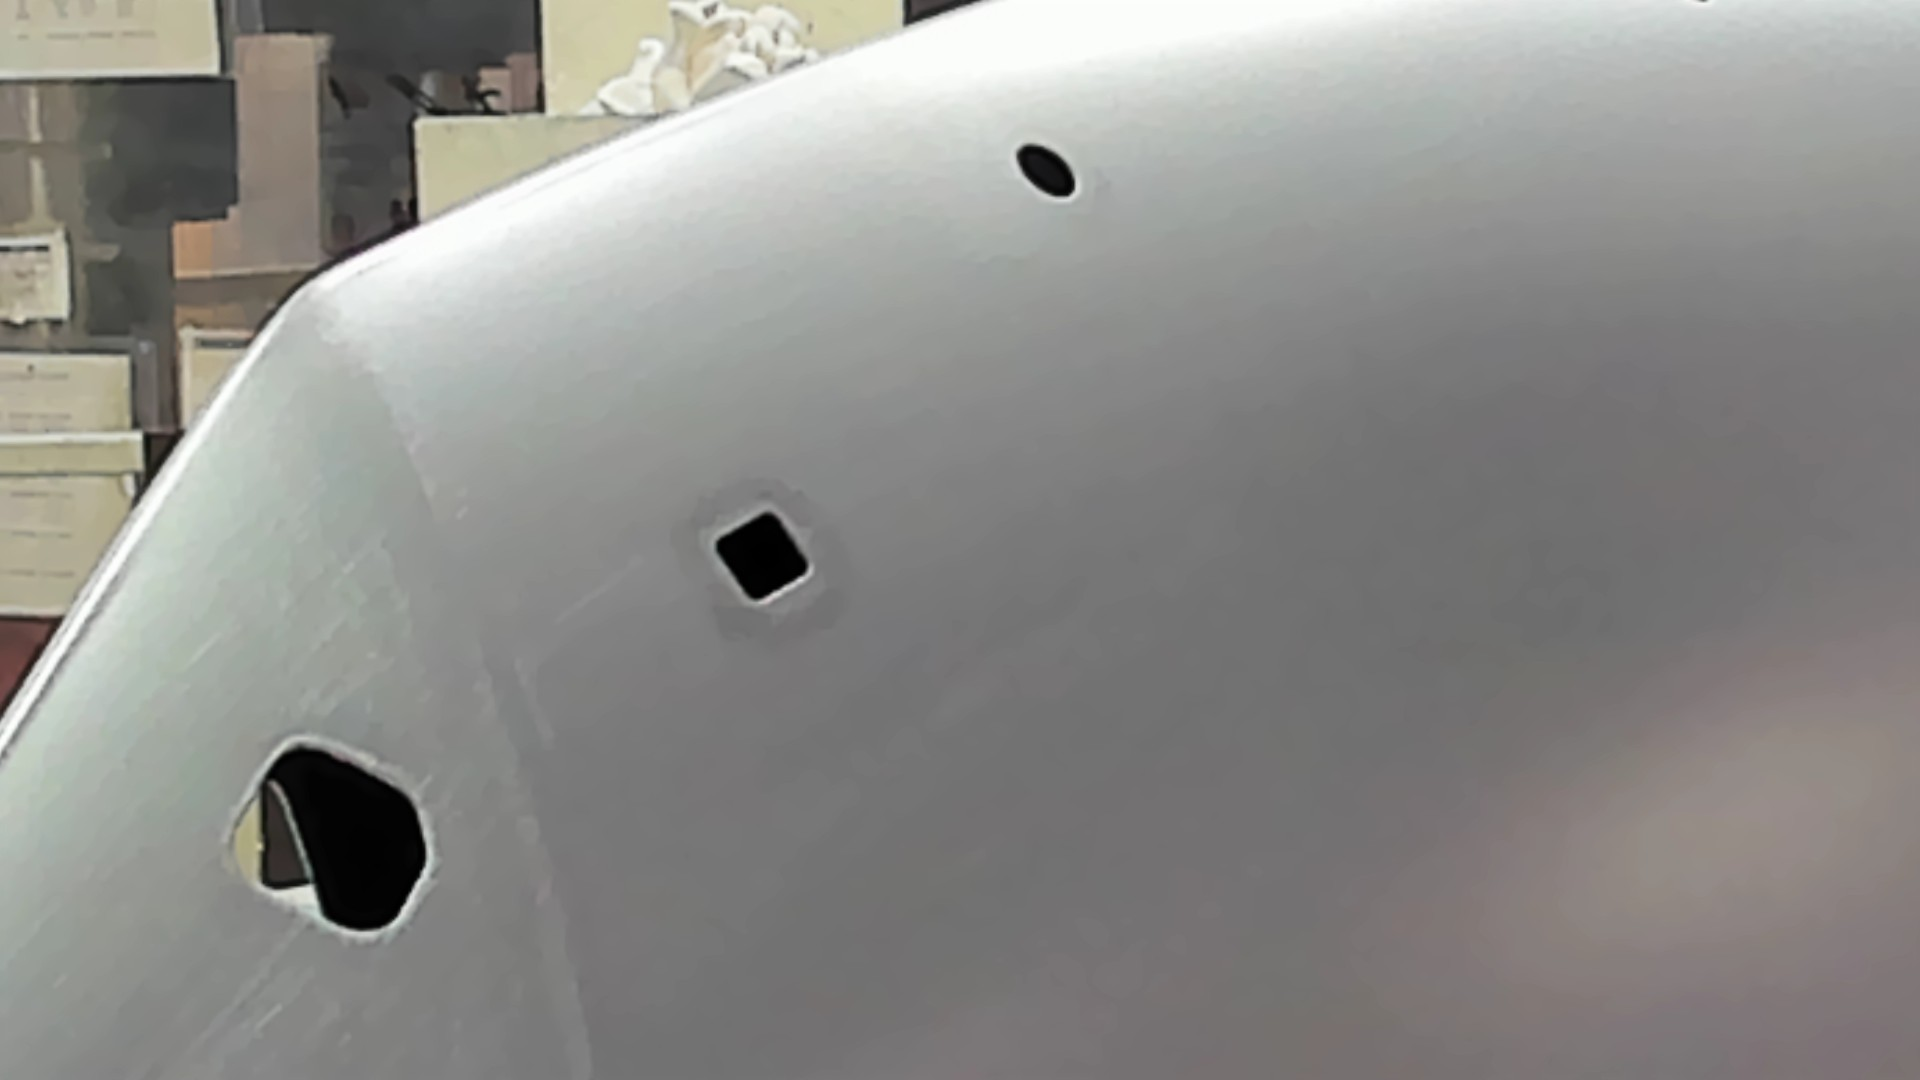capo: (822, 211, 1920, 1080)
chico: (1014, 138, 1080, 200)
grande: (220, 736, 436, 945)
mediano: (705, 500, 810, 607)
